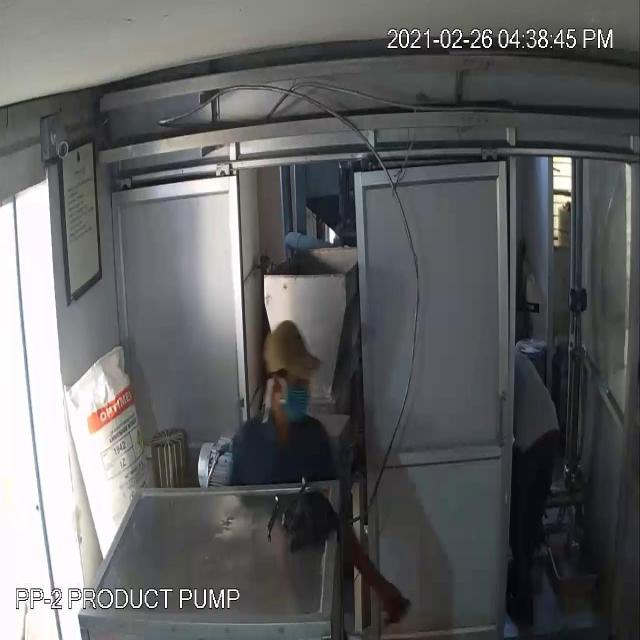no-helmet: (256, 318, 330, 408)
